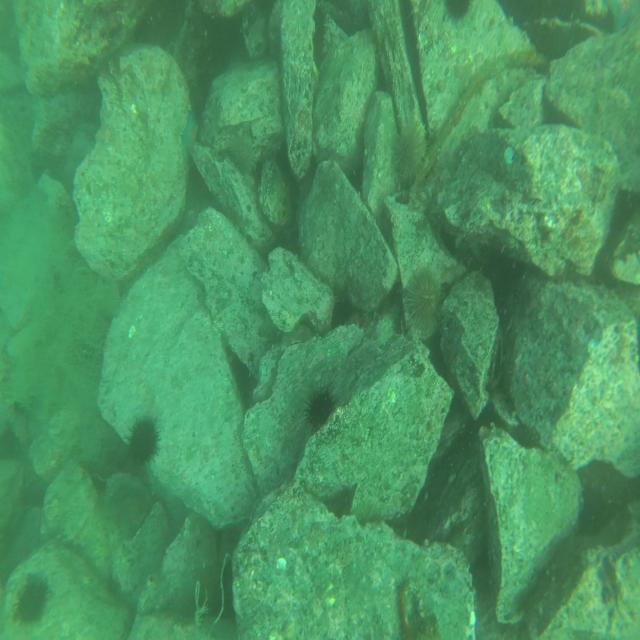echinus: (406, 270, 440, 334), (394, 120, 424, 184), (129, 419, 159, 467), (18, 580, 48, 624), (308, 387, 334, 432), (445, 0, 473, 25)
